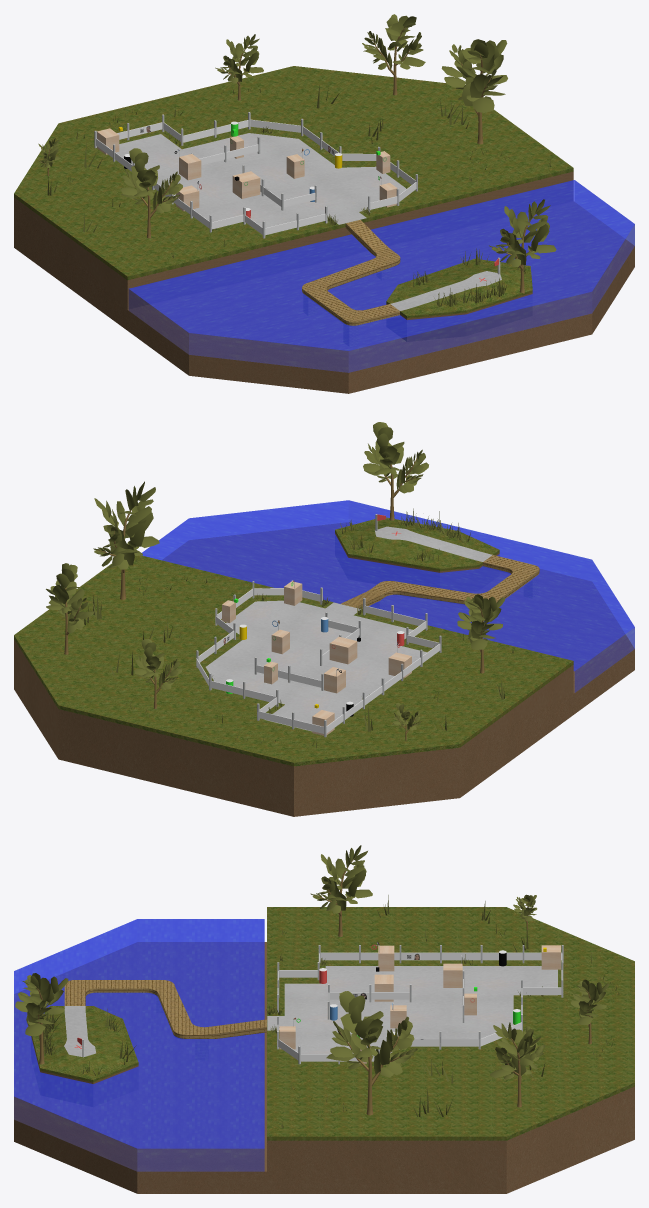
File: map.dae
3 renders of one model, top to bottom at view 1: azimuth 30°, elevation 25°; view 2: azimuth 150°, elevation 25°; view 3: azimuth 270°, elevation 25°, orthographic. The views are drawn at different scales.
Visible parts, largest first — view 1: demo2; view 2: demo2; view 3: demo2.
Boxes of the visible parts, bbox=[...] form: demo2: bbox=[14, 14, 634, 393]; demo2: bbox=[14, 422, 634, 816]; demo2: bbox=[14, 845, 634, 1193].
Size of the model in its own units: 16.91 by 19.32 by 5.98.
